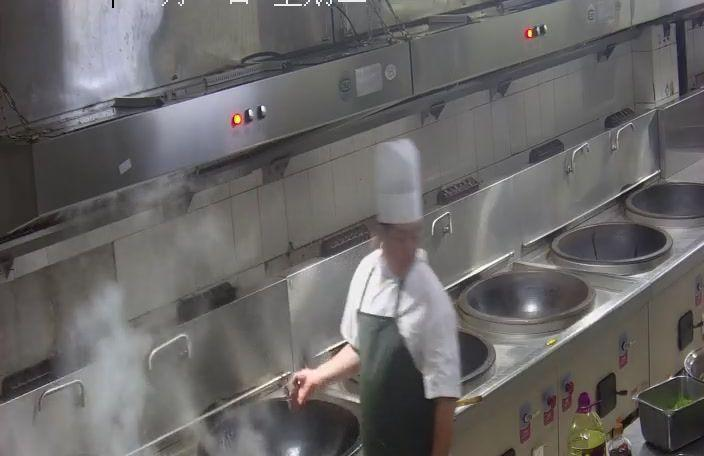mask: (378, 226, 428, 282)
